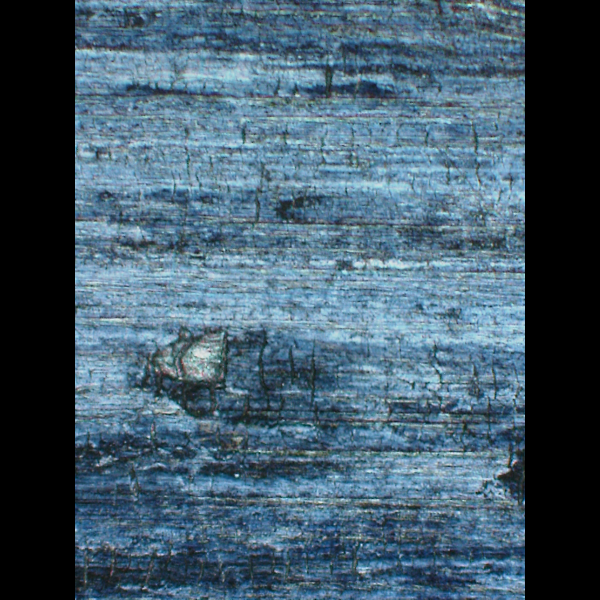d: (124, 322, 251, 428)
